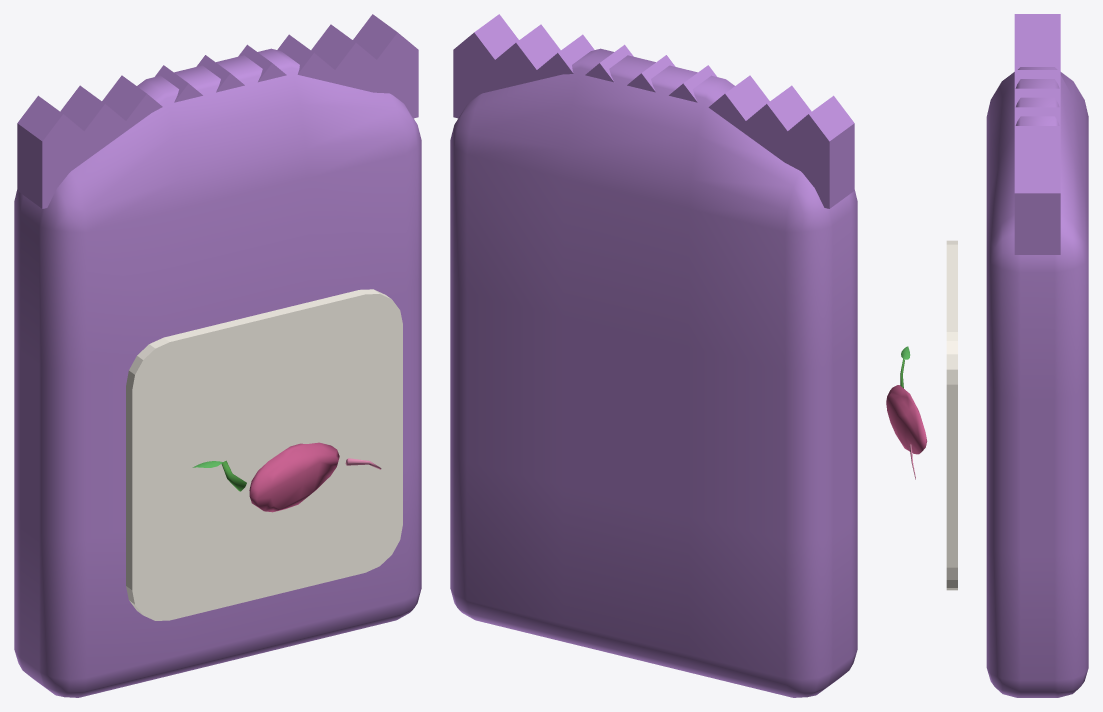
File: semente-batata-doce.glb
The picture shows the model from 3 angles, left to right: view 1: azimuth 30°, elevation 25°; view 2: azimuth 150°, elevation 25°; view 3: azimuth 270°, elevation 25°; orthographic projection. The views are drawn at different scales.
Visible parts, largest first — view 1: semente-batata-doce; view 2: semente-batata-doce; view 3: semente-batata-doce.
Part boxes in pixels (x1,y1,x2,y2): semente-batata-doce: (14,14,421,697); semente-batata-doce: (450,14,857,697); semente-batata-doce: (886,14,1088,697).
Size of the model in its own units: 0.14 by 0.208 by 0.0713.
